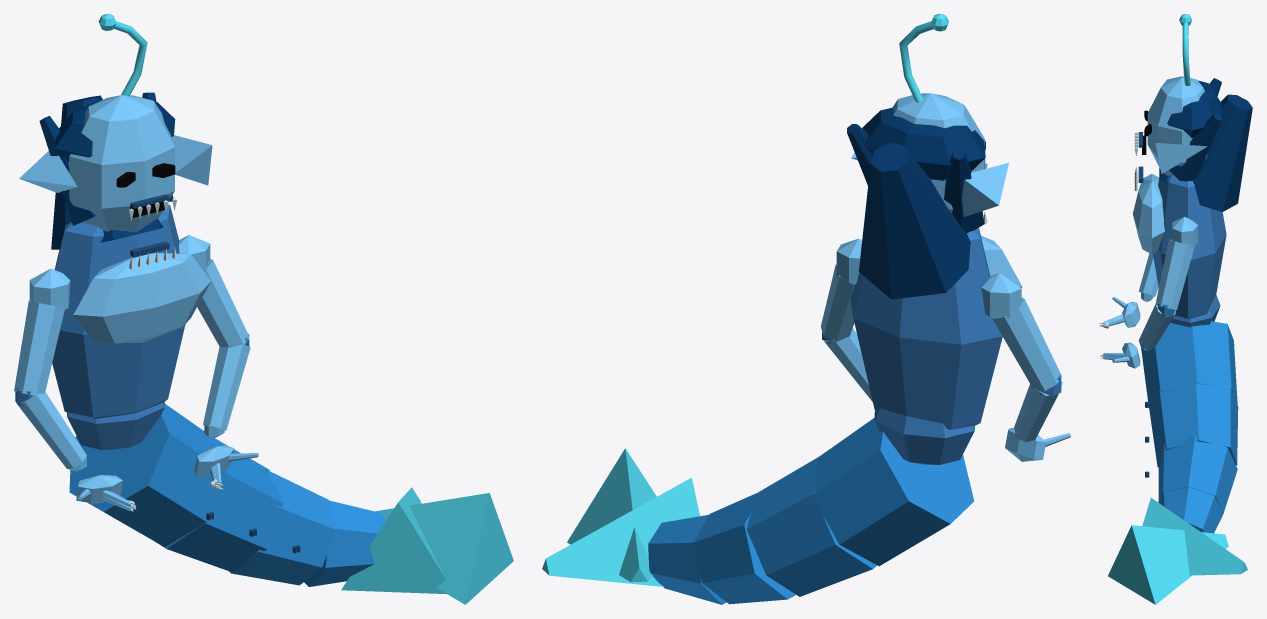
Rendered from Siren.fbx.
3 views of the same model, side by side, from view 1: azimuth 30°, elevation 25°; view 2: azimuth 150°, elevation 25°; view 3: azimuth 270°, elevation 25° (orthographic). The views are drawn at different scales.
Visible parts, largest first — view 1: angular torso, curved segmented mermaid tail, sharp siren head, front chest shape, left split tail fin, curved segmented mermaid tail.001, curved segmented mermaid tail.002, right split tail fin, curved segmented mermaid tail.003, -1 upper arm, narrow waist, 1 forearm (+12 smaller); view 2: angular torso, curved segmented mermaid tail, large back hair mass, curved segmented mermaid tail.001, right split tail fin, curved segmented mermaid tail.002, swept back hair cap, left split tail fin, curved segmented mermaid tail.003, narrow waist, -1 upper arm, sharp siren head (+11 smaller); view 3: curved segmented mermaid tail, angular torso, curved segmented mermaid tail.001, left split tail fin, large back hair mass, curved segmented mermaid tail.002, right split tail fin, sharp siren head, front chest shape, curved segmented mermaid tail.003, 1 upper arm, swept back hair cap (+9 smaller).
Part boxes in pixels (box(x1,y1,x2,y2)): angular torso: box(52, 204, 185, 419); curved segmented mermaid tail: box(69, 404, 227, 546); sharp siren head: box(69, 95, 174, 232); front chest shape: box(73, 253, 210, 343); left split tail fin: box(375, 493, 513, 604); curved segmented mermaid tail.001: box(157, 437, 283, 572); curved segmented mermaid tail.002: box(229, 469, 335, 585); right split tail fin: box(341, 487, 446, 594); curved segmented mermaid tail.003: box(304, 500, 385, 586); -1 upper arm: box(14, 300, 64, 395); narrow waist: box(67, 402, 164, 450); 1 forearm: box(203, 344, 250, 430); angular torso: box(850, 228, 1002, 429); curved segmented mermaid tail: box(812, 418, 974, 566); large back hair mass: box(859, 142, 970, 299); curved segmented mermaid tail.001: box(746, 457, 876, 596); right split tail fin: box(542, 477, 699, 586); curved segmented mermaid tail.002: box(693, 493, 795, 604); swept back hair cap: box(862, 107, 985, 180); left split tail fin: box(567, 448, 656, 582); curved segmented mermaid tail.003: box(648, 515, 726, 604); narrow waist: box(874, 408, 974, 464); -1 upper arm: box(992, 298, 1061, 391); sharp siren head: box(892, 93, 985, 212); curved segmented mermaid tail: box(1141, 321, 1237, 408); angular torso: box(1153, 175, 1226, 319); curved segmented mermaid tail.001: box(1149, 379, 1238, 467); left split tail fin: box(1108, 525, 1228, 604); large back hair mass: box(1159, 94, 1252, 212); curved segmented mermaid tail.002: box(1158, 436, 1237, 513); right split tail fin: box(1142, 498, 1247, 575); sharp siren head: box(1147, 76, 1207, 175); front chest shape: box(1133, 174, 1164, 253); curved segmented mermaid tail.003: box(1160, 486, 1223, 533); 1 upper arm: box(1155, 239, 1194, 309); swept back hair cap: box(1167, 80, 1221, 137).
Bounding box in the file's own units: 341 × 417 × 128.
